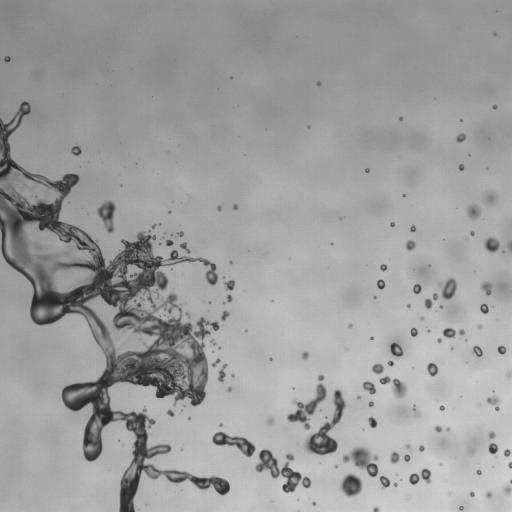droplet: (342, 446, 379, 477), (379, 375, 407, 399), (97, 200, 116, 233), (340, 473, 362, 497), (437, 278, 457, 300), (408, 468, 431, 485), (482, 190, 498, 207), (484, 236, 500, 252), (486, 395, 501, 411), (466, 204, 480, 220), (390, 342, 403, 357), (362, 381, 376, 394), (378, 475, 390, 490), (488, 442, 498, 459), (501, 479, 511, 496), (480, 281, 492, 295), (371, 363, 385, 374), (427, 362, 438, 376), (70, 143, 81, 156), (223, 280, 235, 291), (389, 451, 400, 463), (412, 404, 421, 418), (8, 149, 19, 160), (51, 170, 62, 181), (473, 196, 484, 207), (478, 203, 489, 214), (57, 211, 68, 222), (467, 218, 478, 229), (111, 229, 122, 240), (155, 231, 166, 242), (150, 245, 161, 256), (158, 246, 169, 257), (102, 252, 113, 263), (420, 287, 431, 298), (485, 345, 496, 356), (207, 367, 218, 378), (89, 370, 100, 381), (369, 372, 380, 383), (106, 384, 117, 395), (403, 390, 414, 401), (401, 393, 412, 404), (323, 394, 334, 405), (82, 403, 93, 414), (325, 403, 336, 414), (307, 413, 318, 424), (436, 414, 447, 425), (113, 418, 124, 429), (309, 421, 320, 432), (125, 431, 136, 442), (354, 437, 365, 448), (335, 444, 346, 455), (366, 445, 377, 456), (355, 467, 366, 478), (335, 469, 346, 480), (492, 486, 503, 497), (131, 494, 142, 505), (461, 496, 472, 507), (110, 497, 121, 508), (405, 239, 415, 251), (472, 345, 482, 357), (368, 416, 377, 428), (220, 310, 229, 321), (456, 133, 466, 142), (376, 279, 385, 289), (409, 327, 418, 337), (497, 345, 507, 354), (211, 358, 221, 367), (480, 303, 488, 314), (466, 447, 475, 456), (106, 193, 115, 202), (222, 203, 231, 212), (458, 207, 467, 216), (406, 231, 415, 240), (128, 234, 137, 243), (172, 236, 181, 245), (498, 240, 507, 249), (377, 270, 386, 279), (215, 278, 224, 287), (159, 288, 168, 297), (482, 295, 491, 304), (224, 302, 233, 311), (211, 313, 220, 322), (188, 316, 197, 325), (202, 346, 211, 355), (205, 353, 214, 362), (382, 366, 391, 375), (147, 384, 156, 393), (307, 390, 316, 399), (325, 390, 334, 399), (164, 393, 173, 402), (288, 404, 297, 413), (145, 409, 154, 418), (293, 419, 302, 428), (144, 425, 153, 434), (225, 428, 234, 437), (326, 428, 335, 437), (302, 429, 311, 438), (145, 438, 154, 447), (125, 443, 134, 452), (409, 448, 418, 457), (250, 452, 259, 461), (288, 461, 297, 470), (261, 467, 270, 476), (294, 483, 303, 492), (336, 489, 345, 498), (475, 489, 484, 498), (352, 492, 361, 501), (413, 284, 421, 294), (266, 415, 274, 425), (503, 448, 511, 457), (505, 343, 511, 354), (301, 351, 309, 359), (166, 409, 174, 417), (485, 491, 493, 499), (434, 425, 443, 432), (216, 203, 223, 211), (166, 239, 173, 247), (488, 431, 495, 439), (0, 178, 5, 189), (232, 203, 239, 210), (380, 264, 387, 271), (405, 443, 412, 450), (453, 128, 460, 135), (6, 135, 13, 142), (26, 166, 33, 173), (67, 167, 74, 174), (69, 185, 76, 192), (64, 193, 71, 200), (96, 199, 103, 206), (60, 200, 67, 207), (112, 209, 119, 216), (95, 216, 102, 223), (478, 240, 485, 247), (118, 243, 125, 250), (177, 248, 184, 255), (484, 249, 491, 256), (493, 249, 500, 256), (189, 251, 196, 258), (103, 260, 110, 267), (174, 262, 181, 269), (157, 265, 164, 272), (478, 276, 485, 283), (435, 287, 442, 294), (26, 293, 33, 300), (437, 295, 444, 302), (431, 299, 438, 306), (63, 312, 70, 319), (180, 317, 187, 324), (53, 319, 60, 326), (44, 322, 51, 329), (203, 334, 210, 341), (389, 354, 396, 361), (380, 359, 387, 366), (215, 362, 222, 369), (397, 374, 404, 381), (78, 376, 85, 383), (69, 377, 76, 384), (65, 378, 72, 385), (321, 379, 328, 386), (386, 380, 393, 387), (373, 381, 380, 388), (136, 383, 143, 390), (203, 385, 210, 392), (494, 390, 501, 397), (340, 392, 347, 399), (367, 393, 374, 400), (183, 396, 190, 403), (316, 401, 323, 408), (487, 403, 494, 410), (109, 404, 116, 411), (123, 406, 130, 413), (64, 407, 71, 414), (107, 420, 114, 427), (363, 421, 370, 428), (77, 432, 84, 439), (247, 436, 254, 443), (492, 437, 499, 444), (411, 443, 418, 450), (100, 446, 107, 453), (496, 447, 503, 454), (252, 449, 259, 456), (326, 451, 333, 458), (384, 451, 391, 458), (311, 452, 318, 459), (96, 454, 103, 461), (397, 455, 404, 462), (142, 457, 149, 464), (347, 458, 354, 465), (276, 461, 283, 468), (139, 470, 146, 477), (196, 471, 203, 478), (219, 472, 226, 479), (115, 473, 122, 480), (158, 473, 165, 480), (280, 476, 287, 483), (183, 478, 190, 485), (207, 484, 214, 491), (404, 454, 410, 462), (506, 493, 511, 502), (309, 506, 318, 511), (458, 164, 464, 171), (176, 231, 183, 237), (387, 360, 394, 366), (438, 405, 445, 411), (418, 445, 425, 451), (404, 494, 411, 500), (4, 56, 10, 62), (347, 322, 353, 328), (476, 323, 482, 329), (469, 491, 475, 497), (410, 224, 415, 231), (372, 506, 379, 511), (390, 221, 395, 227), (368, 401, 373, 407), (476, 469, 481, 475), (507, 461, 511, 468), (507, 454, 511, 461), (316, 81, 321, 86), (492, 104, 497, 109), (398, 116, 403, 121), (437, 338, 442, 343), (393, 482, 398, 487), (22, 96, 27, 101), (491, 99, 496, 104), (14, 105, 19, 110), (29, 105, 34, 110), (496, 105, 501, 110), (22, 114, 27, 119), (2, 118, 7, 123), (19, 120, 24, 125), (451, 136, 456, 141), (461, 139, 466, 144), (71, 154, 76, 159), (77, 173, 82, 178), (216, 200, 221, 205), (228, 201, 233, 206), (236, 201, 241, 206), (212, 203, 217, 208), (220, 205, 225, 210), (57, 216, 62, 221), (69, 220, 74, 225), (102, 229, 107, 234), (149, 230, 154, 235), (109, 231, 114, 236), (143, 231, 148, 236), (465, 231, 470, 236), (168, 235, 173, 240), (148, 238, 153, 243), (161, 240, 166, 245), (414, 241, 419, 246), (185, 243, 190, 248), (401, 243, 406, 248), (168, 245, 173, 250), (411, 247, 416, 252), (185, 252, 190, 257), (209, 258, 214, 263), (183, 260, 188, 265), (198, 261, 203, 266), (4, 262, 9, 267), (205, 264, 210, 269), (8, 265, 13, 270), (214, 268, 219, 273), (16, 271, 21, 276), (19, 273, 24, 278), (230, 275, 235, 280), (224, 276, 229, 281), (372, 278, 377, 283), (441, 279, 446, 284), (204, 280, 209, 285), (26, 281, 31, 286), (232, 284, 237, 289), (490, 287, 495, 292), (408, 288, 413, 293), (226, 289, 231, 294), (480, 289, 485, 294), (453, 290, 458, 295), (437, 292, 442, 297), (428, 295, 433, 300), (222, 296, 227, 301), (173, 299, 178, 304), (26, 301, 31, 306), (420, 301, 425, 306), (487, 306, 492, 311), (181, 307, 186, 312), (477, 310, 482, 315), (217, 311, 222, 316), (203, 315, 208, 320), (224, 315, 229, 320), (209, 317, 214, 322), (346, 318, 351, 323), (29, 320, 34, 325), (343, 321, 348, 326), (34, 323, 39, 328), (444, 323, 449, 328), (85, 326, 90, 331), (454, 327, 459, 332), (463, 327, 468, 332), (216, 328, 221, 333), (478, 328, 483, 333), (87, 331, 92, 336), (454, 331, 459, 336), (463, 332, 468, 337), (414, 334, 419, 339), (440, 334, 445, 339), (460, 334, 465, 339), (89, 336, 94, 341), (395, 339, 400, 344), (92, 341, 97, 346), (95, 345, 100, 350), (212, 345, 217, 350), (303, 346, 308, 351), (385, 346, 390, 351), (298, 348, 303, 353), (493, 349, 498, 354), (307, 350, 312, 355), (307, 354, 312, 359), (300, 358, 305, 363), (432, 359, 437, 364), (206, 362, 211, 367), (368, 362, 373, 367), (422, 365, 427, 370), (222, 368, 227, 373), (318, 369, 323, 374), (436, 369, 441, 374), (379, 372, 384, 377), (433, 373, 438, 378), (389, 375, 394, 380), (314, 379, 319, 384), (216, 380, 221, 385), (358, 384, 363, 389), (57, 388, 62, 393), (364, 389, 369, 394), (488, 392, 493, 397), (202, 396, 207, 401), (157, 397, 162, 402), (177, 398, 182, 403), (60, 402, 65, 407), (497, 402, 502, 407), (195, 403, 200, 408), (189, 404, 194, 409), (170, 406, 175, 411), (341, 408, 346, 413), (134, 409, 139, 414), (409, 410, 414, 415), (165, 413, 170, 418), (262, 415, 267, 420), (373, 415, 378, 420), (326, 417, 331, 422), (319, 421, 324, 426), (431, 422, 436, 427), (440, 423, 445, 428), (267, 424, 272, 429), (489, 426, 494, 431), (440, 428, 445, 433), (223, 429, 228, 434), (484, 430, 489, 435), (209, 431, 214, 436), (494, 431, 499, 436), (236, 432, 241, 437), (207, 437, 212, 442), (488, 438, 493, 443), (159, 439, 164, 444), (418, 440, 423, 445), (168, 441, 173, 446), (336, 442, 341, 447), (223, 443, 228, 448), (232, 444, 237, 449), (263, 444, 268, 449), (484, 448, 489, 453), (288, 449, 293, 454), (167, 450, 172, 455), (79, 452, 84, 457), (271, 452, 276, 457), (292, 452, 297, 457), (488, 452, 493, 457), (129, 454, 134, 459), (80, 455, 85, 460), (373, 459, 378, 464), (391, 462, 396, 467), (167, 465, 172, 470), (177, 466, 182, 471), (416, 470, 421, 475), (376, 471, 381, 476), (300, 472, 305, 477), (428, 474, 433, 479), (308, 475, 313, 480), (404, 476, 409, 481), (418, 476, 423, 481), (170, 481, 175, 486), (406, 481, 411, 486), (228, 482, 233, 487), (309, 482, 314, 487), (388, 482, 393, 487), (277, 485, 282, 490), (485, 486, 490, 491), (279, 489, 284, 494), (214, 491, 219, 496), (225, 491, 230, 496), (490, 495, 495, 500), (484, 497, 489, 502), (470, 230, 474, 236), (0, 55, 3, 62), (492, 32, 497, 36), (365, 168, 369, 173), (439, 304, 443, 309), (369, 336, 374, 340), (268, 357, 273, 361), (227, 386, 231, 391), (356, 395, 361, 399), (477, 402, 481, 407), (445, 427, 450, 431), (334, 464, 338, 469), (447, 491, 451, 496), (312, 501, 316, 506), (459, 505, 463, 510), (306, 125, 310, 129), (338, 216, 342, 220), (229, 260, 233, 264), (406, 304, 410, 308), (420, 316, 424, 320), (230, 373, 234, 377), (187, 416, 191, 420), (438, 462, 442, 466), (219, 422, 222, 427), (368, 508, 373, 511), (378, 508, 383, 511), (229, 76, 233, 79), (402, 194, 406, 197), (501, 250, 505, 253), (450, 346, 453, 350), (318, 408, 321, 412), (394, 473, 398, 476), (0, 251, 2, 256), (168, 210, 171, 213), (170, 233, 173, 236), (158, 242, 161, 245), (330, 242, 333, 245), (222, 276, 225, 279), (208, 301, 211, 304), (244, 329, 247, 332), (427, 329, 430, 332), (464, 338, 467, 341), (211, 350, 214, 353), (182, 404, 185, 407), (296, 442, 299, 445), (180, 448, 183, 451), (296, 498, 299, 501), (493, 28, 496, 31), (496, 31, 499, 34), (492, 35, 495, 38), (9, 58, 12, 61), (5, 61, 8, 64), (229, 72, 232, 75), (226, 76, 229, 79), (232, 76, 235, 79), (229, 79, 232, 82), (313, 81, 316, 84), (320, 81, 323, 84), (316, 85, 319, 88), (489, 105, 492, 108), (491, 108, 494, 111), (399, 113, 402, 116), (402, 116, 405, 119), (396, 118, 399, 121), (462, 118, 465, 121), (459, 121, 462, 124), (309, 124, 312, 127), (304, 127, 307, 130), (72, 143, 75, 146), (76, 143, 79, 146), (79, 146, 82, 149), (78, 153, 81, 156), (470, 153, 473, 156), (132, 162, 135, 165), (363, 165, 366, 168), (456, 168, 459, 171), (461, 169, 464, 172), (362, 170, 365, 173), (368, 170, 371, 173), (40, 172, 43, 175), (119, 180, 122, 183), (116, 183, 119, 186), (402, 190, 405, 193), (399, 193, 402, 196), (405, 193, 408, 196), (400, 196, 403, 199), (167, 207, 170, 210), (235, 208, 238, 211), (215, 209, 218, 212), (164, 210, 167, 213), (170, 211, 173, 214), (167, 213, 170, 216), (160, 220, 163, 223), (387, 221, 390, 224), (150, 222, 153, 225), (394, 222, 397, 225), (160, 223, 163, 226), (155, 224, 158, 227), (414, 224, 417, 227), (407, 225, 410, 228), (148, 226, 151, 229), (391, 226, 394, 229), (407, 228, 410, 231), (177, 229, 180, 232), (411, 231, 414, 234), (173, 232, 176, 235), (473, 232, 476, 235), (91, 237, 94, 240), (328, 239, 331, 242), (441, 239, 444, 242), (332, 240, 335, 243), (96, 242, 99, 245), (328, 244, 331, 247), (231, 258, 234, 261), (226, 260, 229, 263), (383, 261, 386, 264), (230, 263, 233, 266), (169, 264, 172, 267), (386, 266, 389, 269), (379, 269, 382, 272), (384, 269, 387, 272), (384, 282, 387, 285), (418, 282, 421, 285), (374, 284, 377, 287), (376, 287, 379, 290), (382, 287, 385, 290), (420, 287, 423, 290), (271, 296, 274, 299), (370, 296, 373, 299), (375, 297, 378, 300), (205, 299, 208, 302), (406, 300, 409, 303), (225, 301, 228, 304), (208, 303, 211, 306), (403, 303, 406, 306), (410, 303, 413, 306), (477, 304, 480, 307), (404, 306, 407, 309), (437, 307, 440, 310), (181, 311, 184, 314), (217, 322, 220, 325), (352, 324, 355, 327), (412, 324, 415, 327), (243, 326, 246, 329), (427, 326, 430, 329), (346, 327, 349, 330), (424, 327, 427, 330), (247, 328, 250, 331), (407, 328, 410, 331), (429, 329, 432, 332), (242, 331, 245, 334), (416, 332, 419, 335), (369, 333, 372, 336), (373, 336, 376, 339), (434, 338, 437, 341), (390, 340, 393, 343), (439, 341, 442, 344), (471, 343, 474, 346), (497, 343, 500, 346), (452, 345, 455, 348), (479, 345, 482, 348), (220, 346, 223, 349), (401, 347, 404, 350), (470, 348, 473, 351), (451, 349, 454, 352), (402, 351, 405, 354), (497, 352, 500, 355), (268, 354, 271, 357), (271, 355, 274, 358), (479, 355, 482, 358), (267, 359, 270, 362), (271, 359, 274, 362), (392, 363, 395, 366), (233, 372, 236, 375), (491, 386, 494, 389), (289, 387, 292, 390), (294, 387, 297, 390), (230, 389, 233, 392), (227, 391, 230, 394), (353, 395, 356, 398), (356, 398, 359, 401), (365, 402, 368, 405), (441, 402, 444, 405), (370, 405, 373, 408), (410, 405, 413, 408), (164, 408, 167, 411), (443, 408, 446, 411), (498, 408, 501, 411), (185, 414, 188, 417), (190, 417, 193, 420), (447, 424, 450, 427), (449, 428, 452, 431), (359, 429, 362, 432), (436, 431, 439, 434), (119, 439, 122, 442), (404, 441, 407, 444), (423, 444, 426, 447), (423, 448, 426, 451), (409, 455, 412, 458), (408, 459, 411, 462), (439, 459, 442, 462), (331, 464, 334, 467), (505, 465, 508, 468), (476, 466, 479, 469), (427, 467, 430, 470), (480, 469, 483, 472), (474, 472, 477, 475), (384, 474, 387, 477), (478, 474, 481, 477), (396, 480, 399, 483), (396, 484, 399, 487), (385, 486, 388, 489), (305, 487, 308, 490), (473, 492, 476, 495), (467, 494, 470, 497), (471, 496, 474, 499), (298, 498, 301, 501), (312, 498, 315, 501), (315, 501, 318, 504), (459, 502, 462, 505), (309, 503, 312, 506), (459, 119, 462, 121), (428, 264, 431, 266), (271, 300, 274, 302), (491, 305, 494, 307), (346, 348, 348, 351), (292, 387, 294, 390), (362, 428, 364, 431), (400, 478, 402, 481), (297, 509, 300, 511), (509, 377, 511, 380), (509, 452, 511, 455), (509, 476, 511, 479), (458, 509, 461, 511), (468, 154, 470, 156), (486, 167, 488, 169), (120, 184, 122, 186), (164, 232, 166, 234), (412, 366, 414, 368), (492, 390, 494, 392), (460, 395, 462, 397), (181, 409, 183, 411), (271, 500, 273, 502), (0, 231, 1, 234), (0, 247, 1, 250), (118, 439, 119, 441), (136, 163, 137, 164)
ligament: (301, 389, 346, 455), (286, 374, 327, 431), (212, 431, 255, 457), (442, 327, 465, 338), (424, 293, 438, 309), (217, 363, 227, 382), (209, 338, 221, 349), (179, 242, 190, 253), (505, 368, 511, 379), (159, 236, 164, 240), (373, 295, 377, 299), (318, 462, 321, 464)
